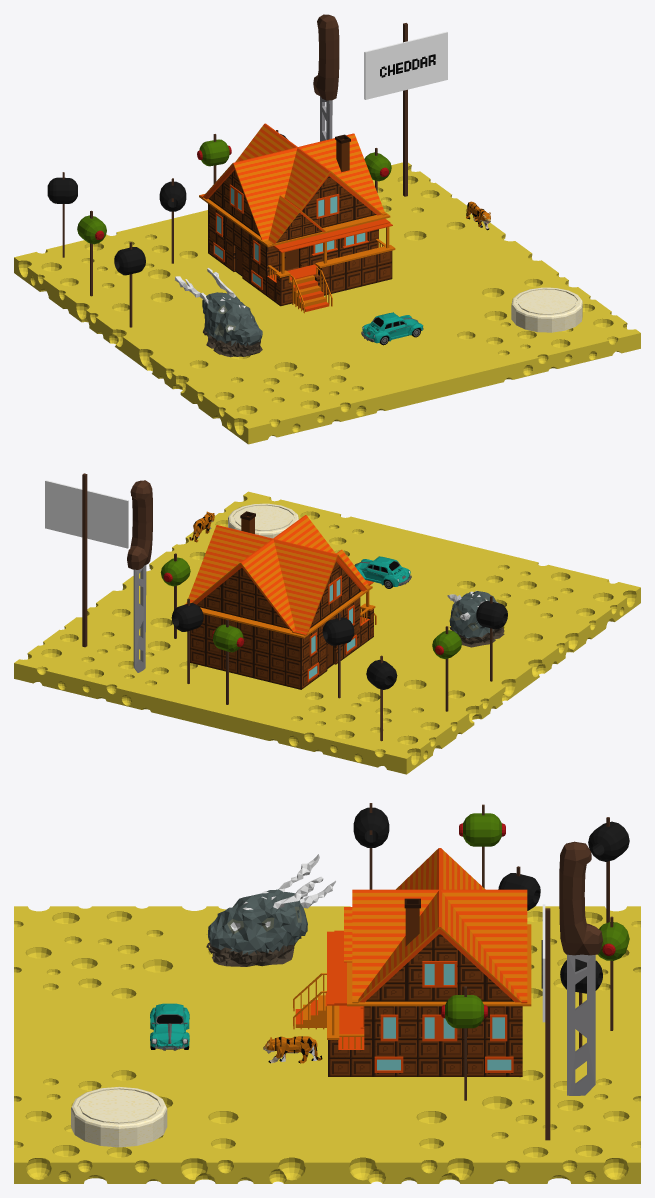
The picture shows the model from 3 angles, top to bottom: view 1: azimuth 30°, elevation 25°; view 2: azimuth 150°, elevation 25°; view 3: azimuth 270°, elevation 25°; orthographic projection. The views are drawn at different scales.
Parts seen in each view (by area): view 1: Cube.022, Cube, Cube.023, OBJRANDOM_METEORITE, Cylinder.016, Cube.024, VEHICLES_VOLKSWAGEN, Sphere.017, Sphere.016, Sphere.020, Sphere.018, Sphere.022 (+1 smaller); view 2: Cube.022, Cube, Cube.023, Cube.024, OBJRANDOM_METEORITE, Cylinder.016, VEHICLES_VOLKSWAGEN, Sphere.017, Sphere.020, Sphere.021, Sphere.016, Sphere.018 (+2 smaller); view 3: Cube.022, Cube, OBJRANDOM_METEORITE, Cube.024, Cylinder.016, Cube.023, VEHICLES_VOLKSWAGEN, Sphere.019, Sphere.016, Sphere.018, Sphere.017, Sphere.022 (+3 smaller).
Boxes of the visible parts, x1,y1,x2,y2 form: Cube.022: (14,162,640,444); Cube: (199,123,395,313); Cube.023: (364,23,447,196); OBJRANDOM_METEORITE: (175,268,262,357); Cylinder.016: (511,287,582,332); Cube.024: (313,14,339,141); VEHICLES_VOLKSWAGEN: (361,312,423,345); Sphere.017: (114,242,145,327); Sphere.016: (47,172,77,257); Sphere.020: (159,178,186,263); Sphere.018: (77,210,106,296); Sphere.022: (197,134,231,183); Cube.022: (14,491,640,774); Cube: (184,511,376,689); Cube.023: (45,473,128,647); Cube.024: (127,480,152,672); OBJRANDOM_METEORITE: (447,590,504,647); Cylinder.016: (228,503,298,538); VEHICLES_VOLKSWAGEN: (354,556,411,588); Sphere.017: (476,596,507,681); Sphere.020: (322,612,354,698); Sphere.021: (171,598,203,683); Sphere.016: (366,655,397,741); Sphere.018: (432,626,461,711); Cube.022: (14,906,640,1183); Cube: (293,848,531,1076); OBJRANDOM_METEORITE: (206,854,335,966); Cube.024: (559,841,602,1095); Cylinder.016: (71,1086,167,1147); Cube.023: (541,904,550,1140); VEHICLES_VOLKSWAGEN: (150,1003,189,1050); Sphere.019: (441,986,487,1100); Sphere.016: (588,817,629,922); Sphere.018: (459,804,505,888); Sphere.017: (353,803,389,889); Sphere.022: (598,916,629,1030).
Bounding box in the file's own units: 3917 × 2007 × 4000.
Materials: 36 (4 with a texture image).
